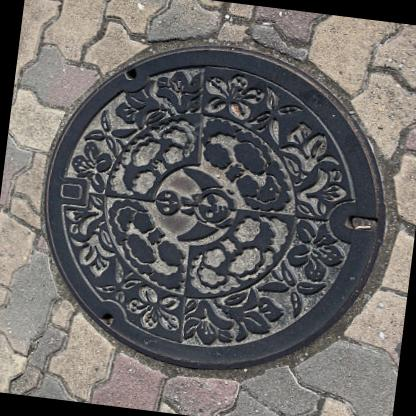manholes: (0, 6, 416, 400)
